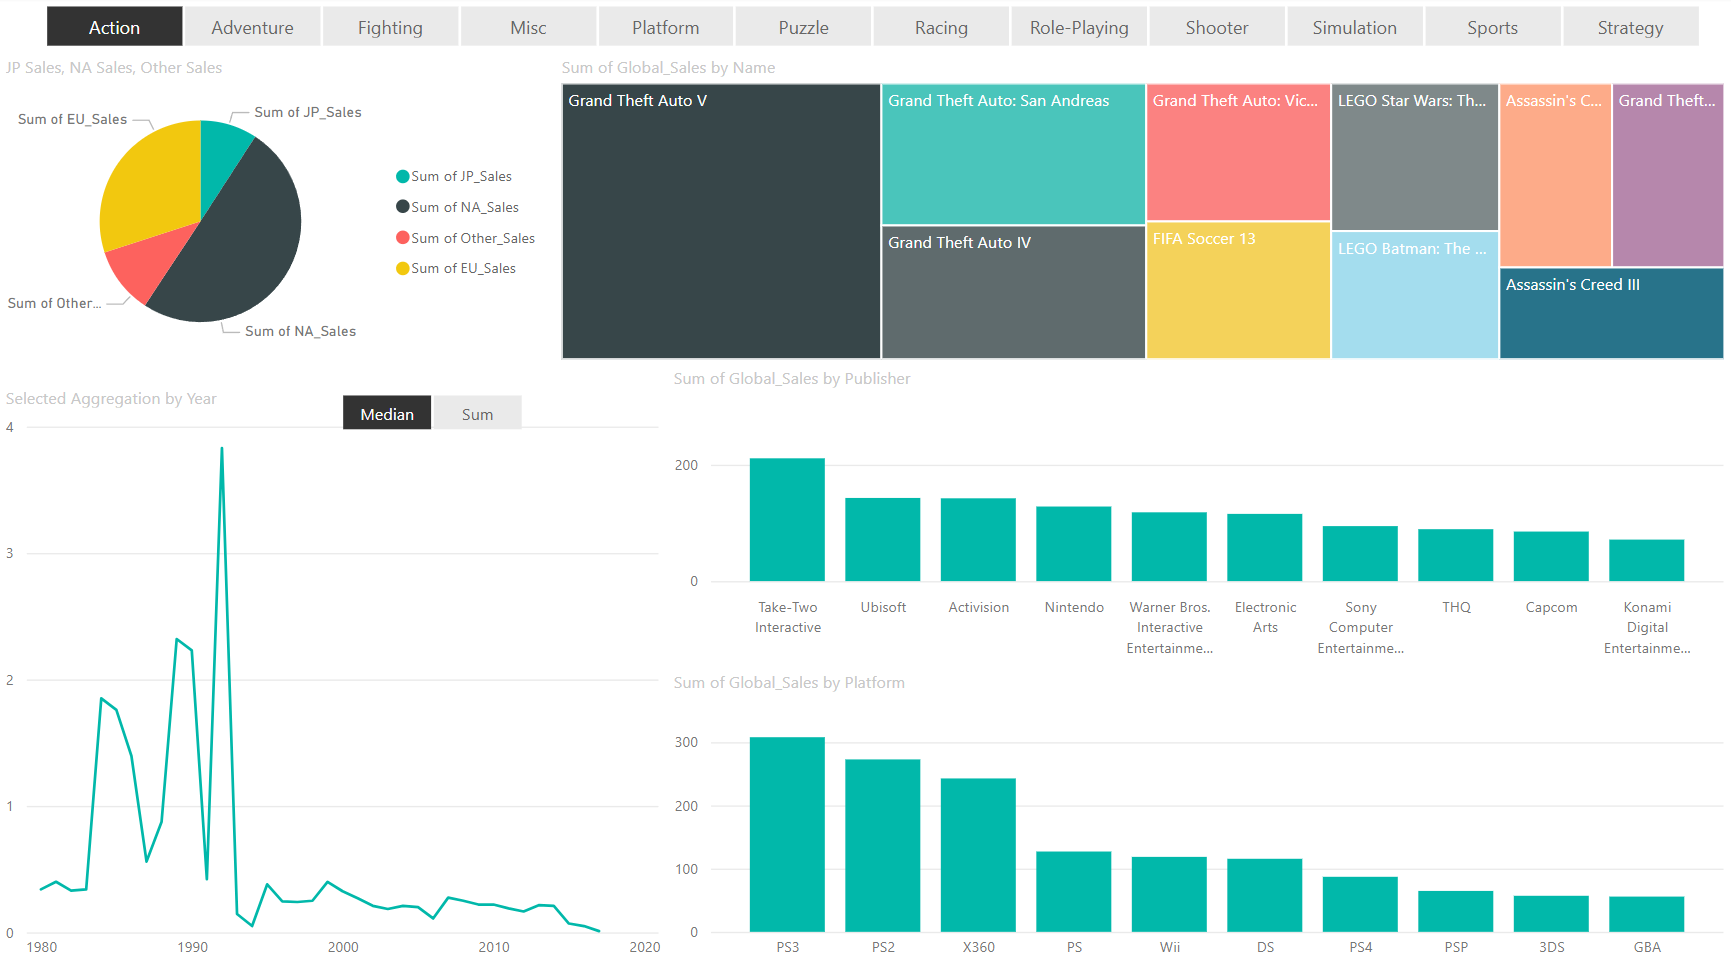

What the dashboard file says about the page in this screenshot:
{"tool":"powerbi","page":{"name":"Page 1","canvas":[1280,720],"ordinal":0},"visuals":[{"type":"slicer","fields":{"Values":["data.Genre"]},"box":[9.8,0,1270.5,42.8],"z":0},{"type":"pieChart","title":"JP Sales, NA Sales, Other Sales","fields":{"Y":["Sum(data.JP_Sales)","Sum(data.NA_Sales)","Sum(data.Other_Sales)","Sum(data.EU_Sales)"]},"box":[0,42.8,410.9,229.9],"z":1000},{"type":"lineChart","fields":{"Category":["data.Year"],"Y":["Aggregation Selection.Selected Aggregation"]},"box":[0,287.4,494,432.9],"z":2000},{"type":"slicer","fields":{"Values":["Aggregation Selection.Aggregation"]},"box":[228.7,287.4,182.2,39.1],"z":3000},{"type":"lineClusteredColumnComboChart","fields":{"Category":["data.Publisher"],"Y":["Sum(data.Global_Sales)"]},"box":[494,272.7,786.3,223],"z":3001},{"type":"lineClusteredColumnComboChart","fields":{"Category":["data.Platform"],"Y":["Sum(data.Global_Sales)"]},"box":[494,497.7,786.3,222.6],"z":3002},{"type":"treemap","fields":{"Group":["data.Name"],"Values":["Sum(data.Global_Sales)"]},"box":[410.9,42.8,869.4,229.9],"z":3003}]}

Visuals, with their boxes in screenshot pixels (x1, y1, x2, y2), scaled from the page's 1280x720 canvas onto the 1731x967 screenshot:
slicer - data.Genre: [x1=13, y1=0, x2=1730, y2=57]
"JP Sales, NA Sales, Other Sales" pieChart: [x1=0, y1=57, x2=556, y2=366]
lineChart - data.Year x Aggregation Selection.Selected Aggregation: [x1=0, y1=386, x2=668, y2=966]
slicer - Aggregation Selection.Aggregation: [x1=309, y1=386, x2=556, y2=439]
lineClusteredColumnComboChart - data.Publisher x Sum(data.Global_Sales): [x1=668, y1=366, x2=1730, y2=666]
lineClusteredColumnComboChart - data.Platform x Sum(data.Global_Sales): [x1=668, y1=668, x2=1730, y2=966]
treemap - data.Name x Sum(data.Global_Sales): [x1=556, y1=57, x2=1730, y2=366]
